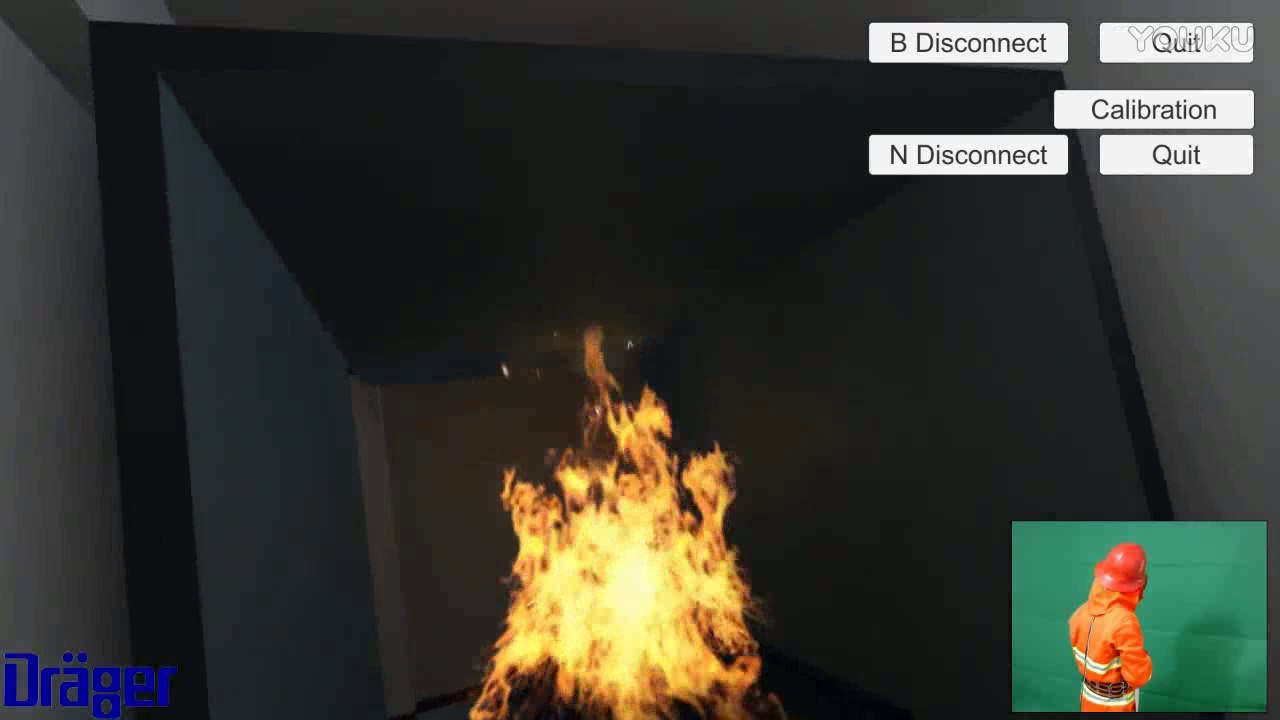fire: (453, 337, 802, 711)
